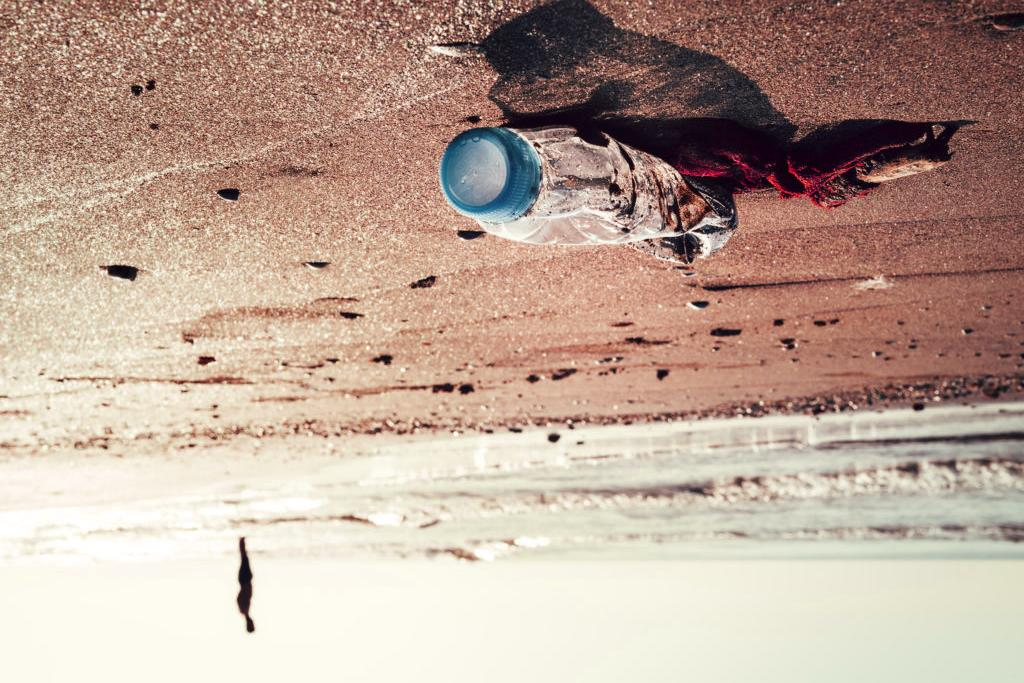Plastic: (442, 118, 740, 264)
